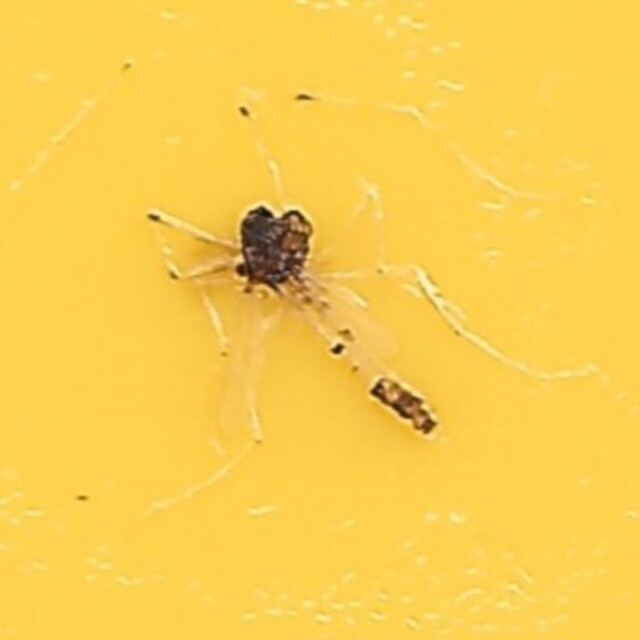Nematocera: (180, 184, 460, 456)
